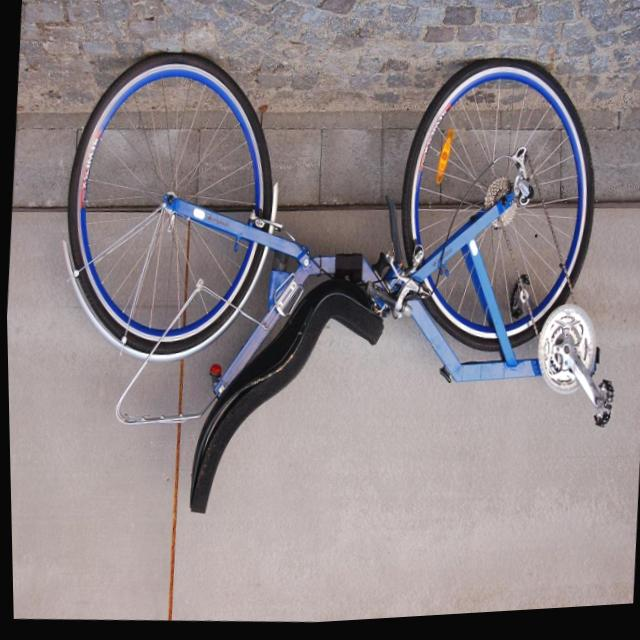recumbent-bike: (34, 25, 638, 549)
